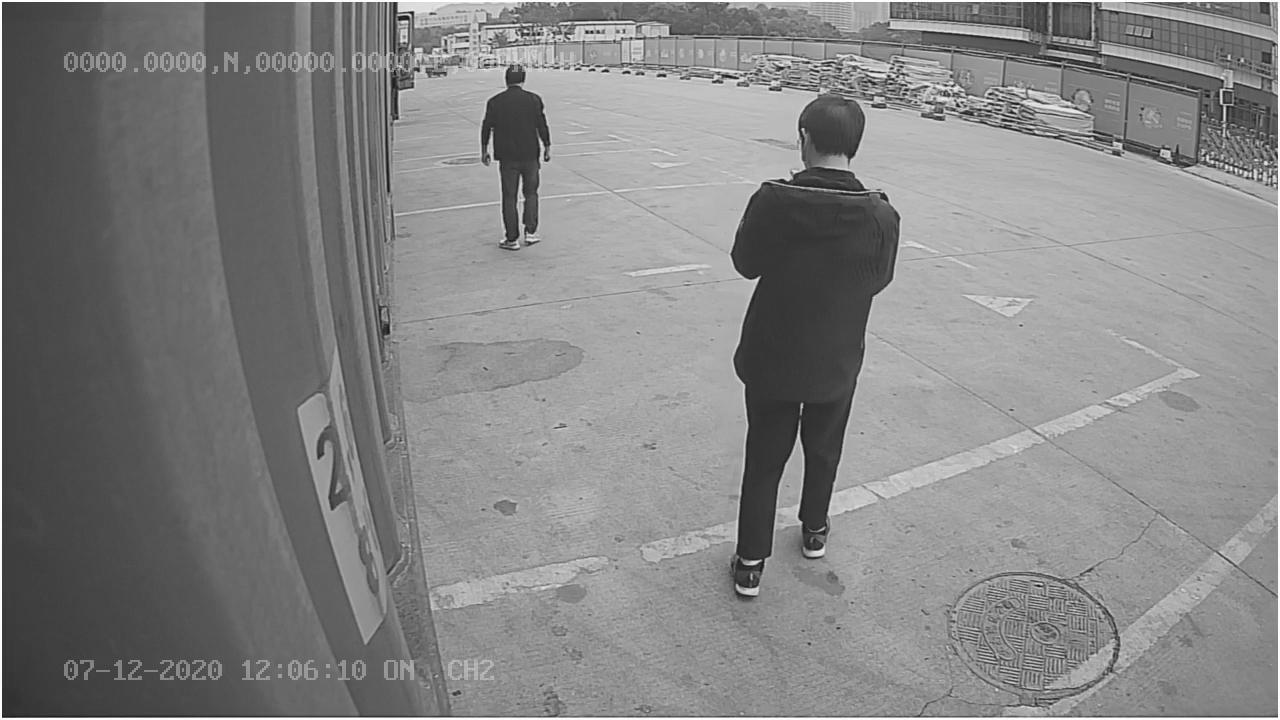person: (724, 93, 908, 602)
